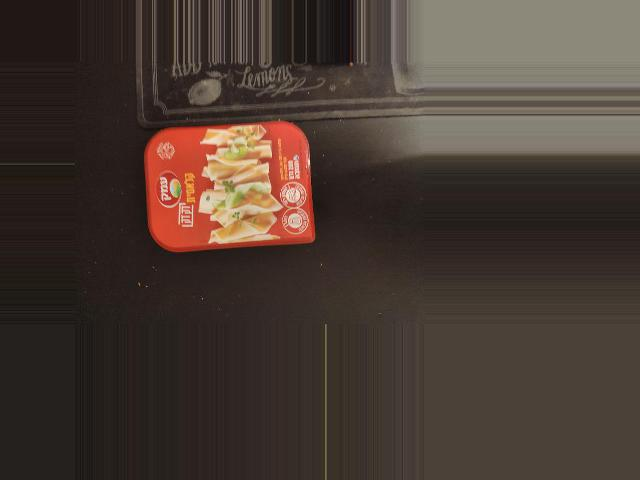cheese: (149, 128, 310, 245)
